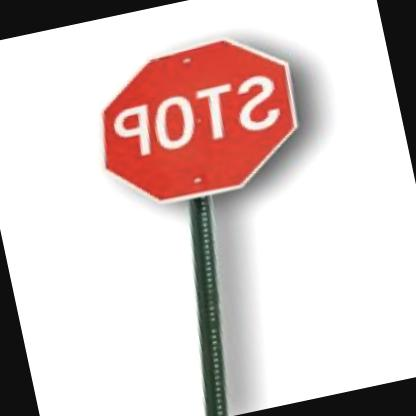stop: (82, 22, 314, 213)
